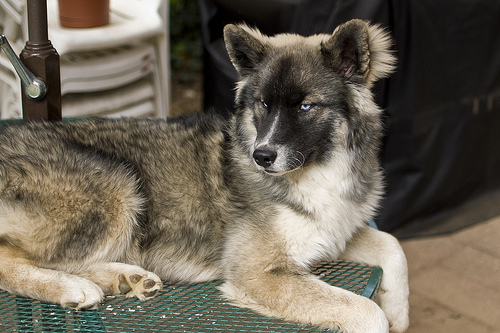dog: (0, 0, 433, 332)
